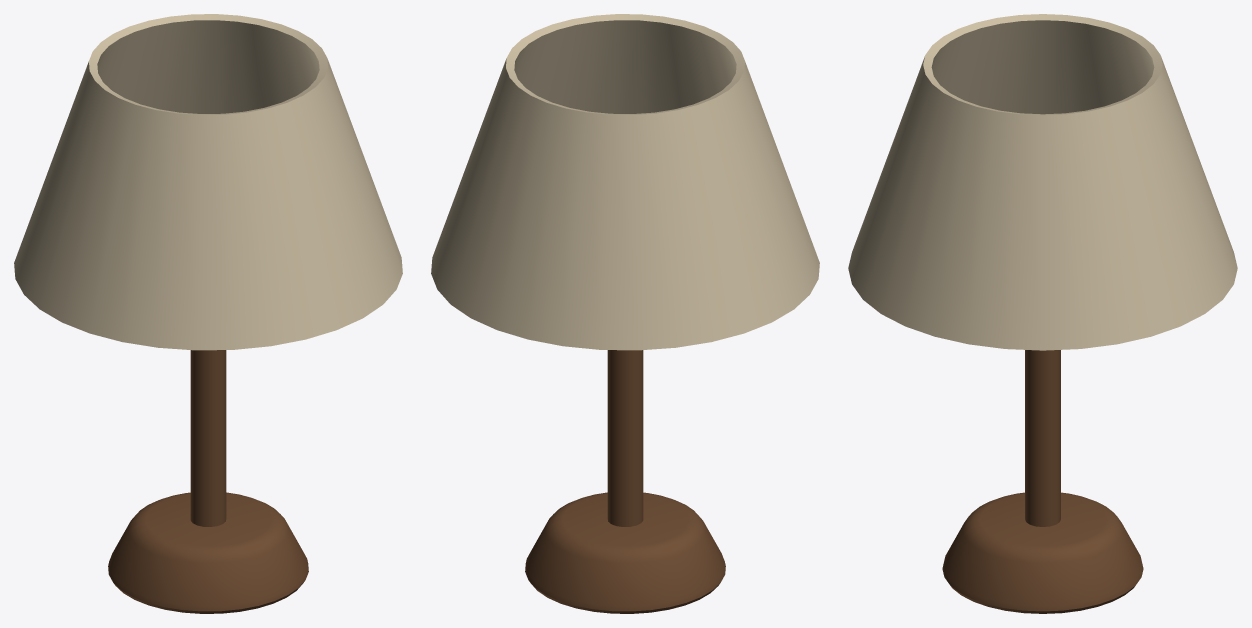
Rendered from table_lamp.glb.
3 views of the same model, side by side, from view 1: azimuth 30°, elevation 25°; view 2: azimuth 150°, elevation 25°; view 3: azimuth 270°, elevation 25° (orthographic).
Parts seen in each view (by area): view 1: table_lamp_shade, table_lamp_base, table_lamp_stem; view 2: table_lamp_shade, table_lamp_base, table_lamp_stem; view 3: table_lamp_shade, table_lamp_base, table_lamp_stem.
Part boxes in pixels (x1,y1,x2,y2): table_lamp_shade: (14,14,402,350); table_lamp_base: (108,492,308,613); table_lamp_stem: (190,350,226,526); table_lamp_shade: (431,14,819,350); table_lamp_base: (525,492,725,613); table_lamp_stem: (607,350,643,526); table_lamp_shade: (848,14,1237,350); table_lamp_base: (942,492,1143,613); table_lamp_stem: (1025,350,1060,526).
Bounding box in the file's own units: 0.26 × 0.375 × 0.26.
